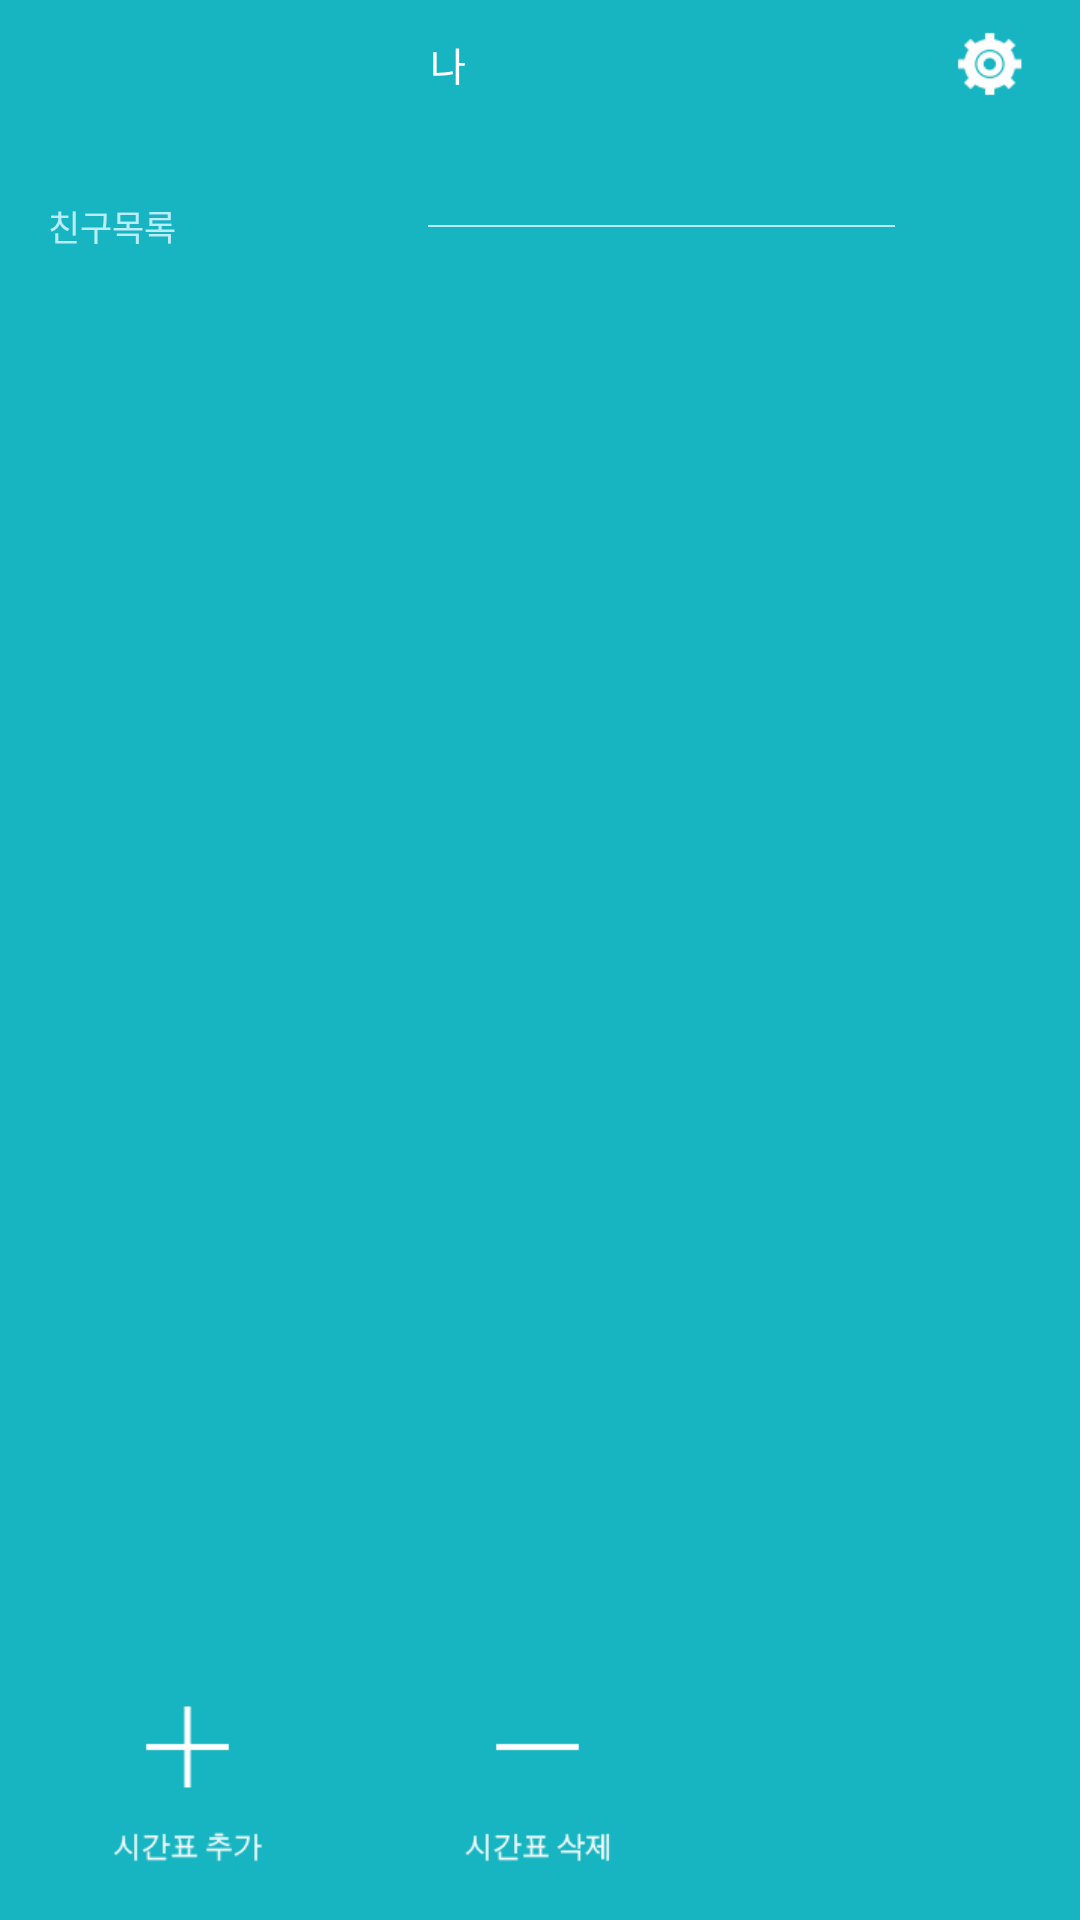

Icons on this 1080 x 1920 Android screen, each with the point to tap as point (x, y):
setting: point (990, 64)
